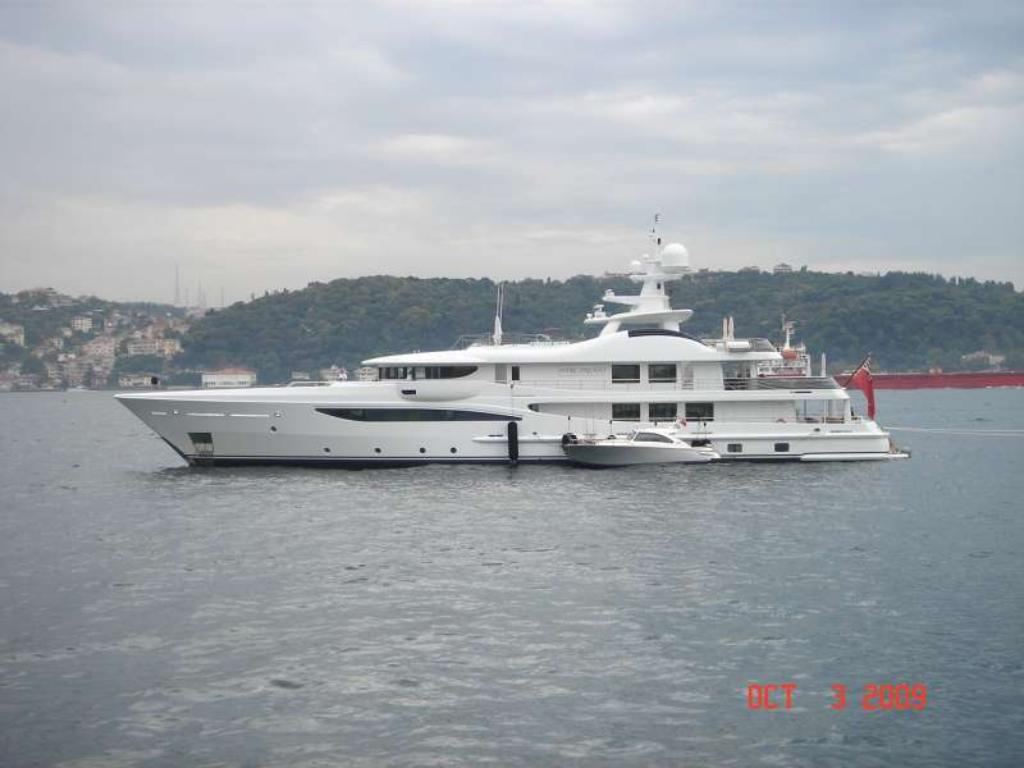PassengerShip: (106, 221, 918, 471)
